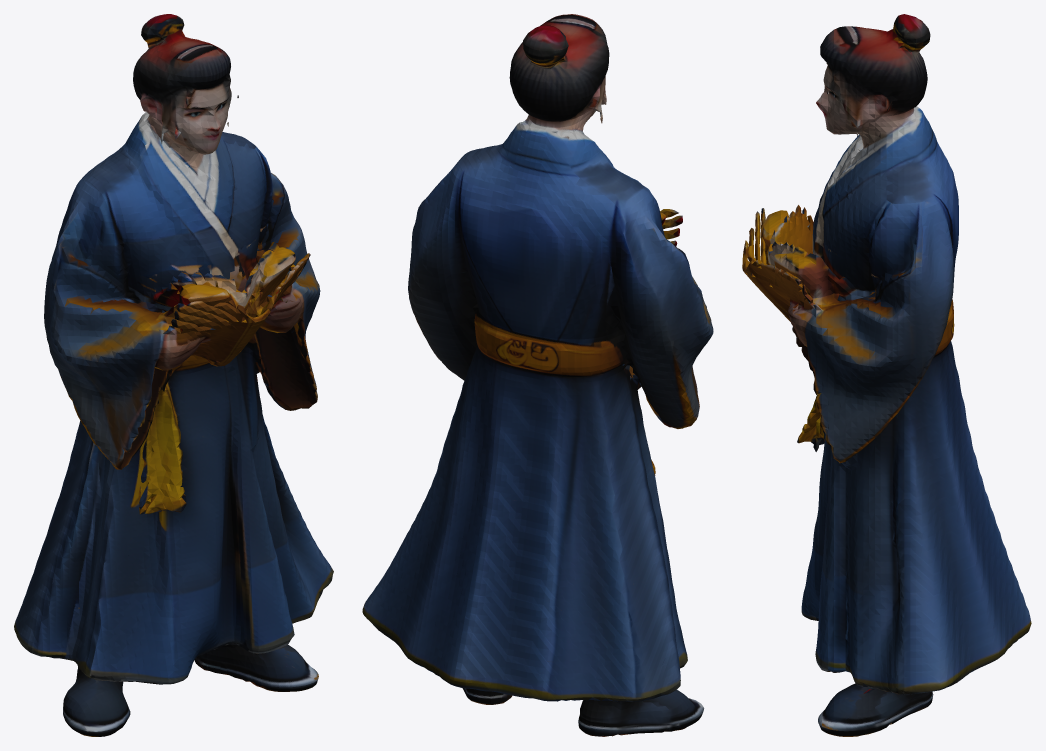
File: body.glb
3 renders of one model, left to right at view 1: azimuth 30°, elevation 25°; view 2: azimuth 150°, elevation 25°; view 3: azimuth 270°, elevation 25°, orthographic. The views are drawn at different scales.
Visible parts, largest first — view 1: geometry_0; view 2: geometry_0; view 3: geometry_0.
Part boxes in pixels (x1,y1,x2,y2): geometry_0: [14, 14, 333, 736]; geometry_0: [362, 14, 713, 736]; geometry_0: [742, 14, 1031, 736].
Size of the model in its own units: 0.9246 by 1.96 by 0.7712.
Materials: 1 (1 with a texture image).
